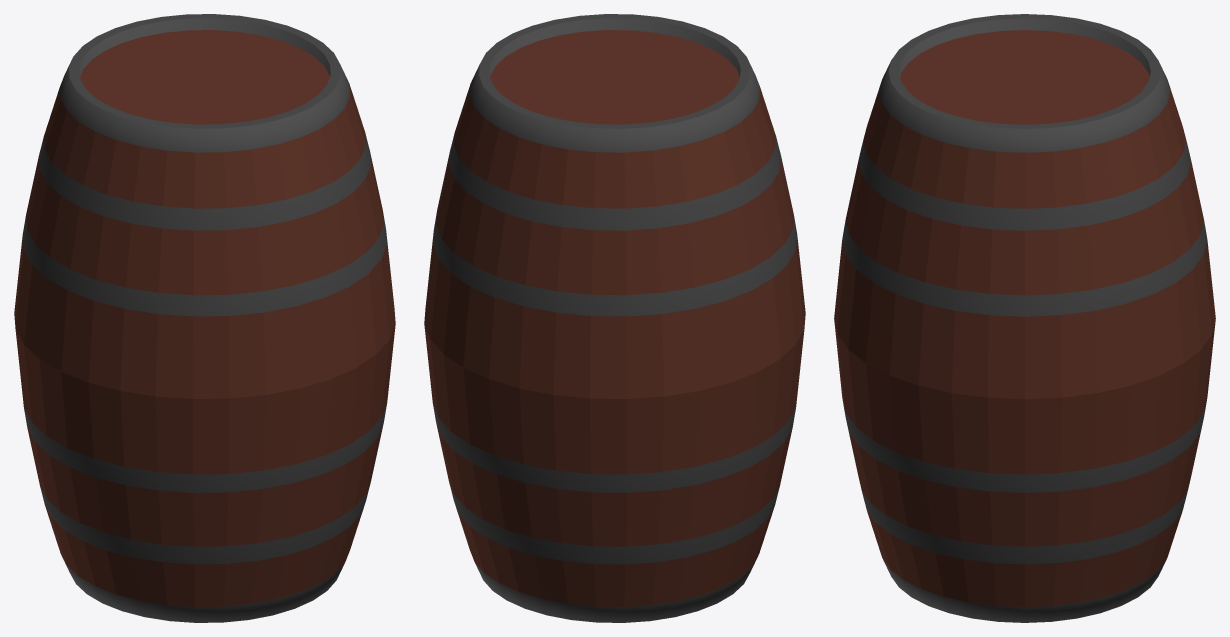
The model's file is Barrel.fbx.
3 views of the same model, side by side, from view 1: azimuth 30°, elevation 25°; view 2: azimuth 150°, elevation 25°; view 3: azimuth 270°, elevation 25° (orthographic).
Visible parts, largest first — view 1: Cylinder; view 2: Cylinder; view 3: Cylinder.
Boxes of the visible parts, <box> form: Cylinder: <box>14,14,395,622</box>; Cylinder: <box>424,14,805,622</box>; Cylinder: <box>834,14,1215,622</box>.
Size of the model in its own units: 70.12 by 100 by 70.06.
